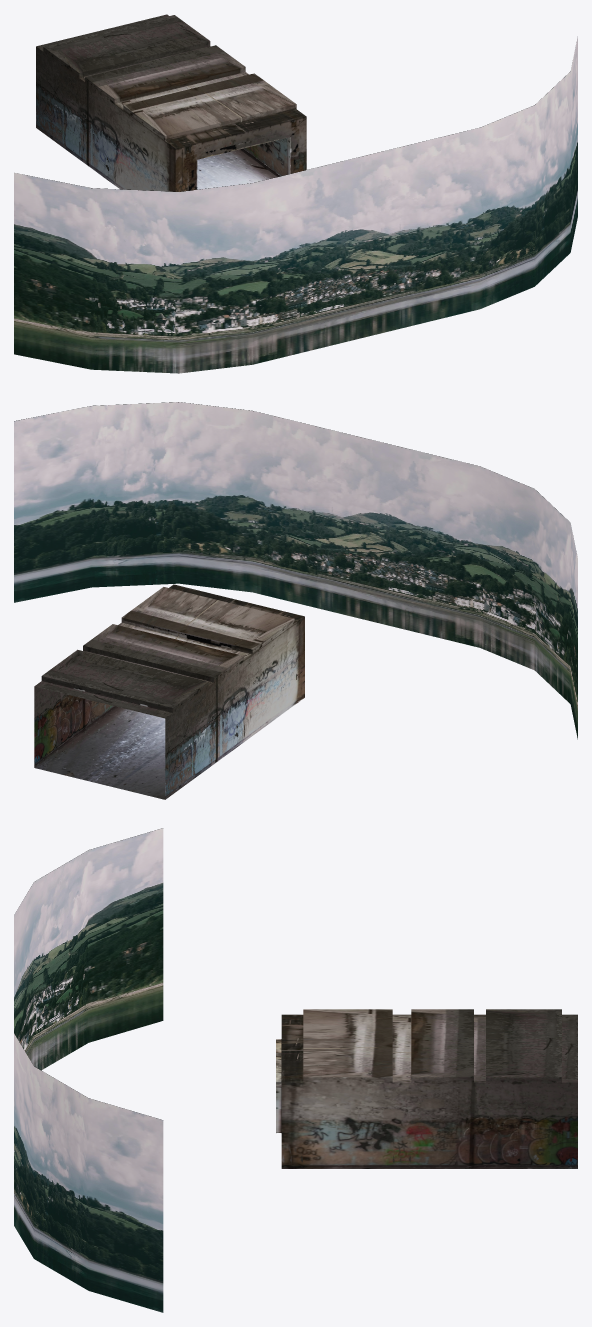
File: old_room.glb
3 renders of one model, top to bottom at view 1: azimuth 30°, elevation 25°; view 2: azimuth 150°, elevation 25°; view 3: azimuth 270°, elevation 25°, orthographic. The views are drawn at different scales.
Parts seen in each view (by area): view 1: backdrop, old room; view 2: backdrop, old room; view 3: backdrop, old room.
Boxes of the visible parts, bbox=[...] form: backdrop: bbox=[14, 36, 577, 373]; old room: bbox=[36, 14, 306, 191]; backdrop: bbox=[14, 402, 577, 739]; old room: bbox=[34, 584, 304, 799]; backdrop: bbox=[14, 828, 163, 1312]; old room: bbox=[276, 1009, 577, 1168].
Size of the model in its own units: 18.08 by 5.56 by 14.75.
2 materials, 2 textured.
